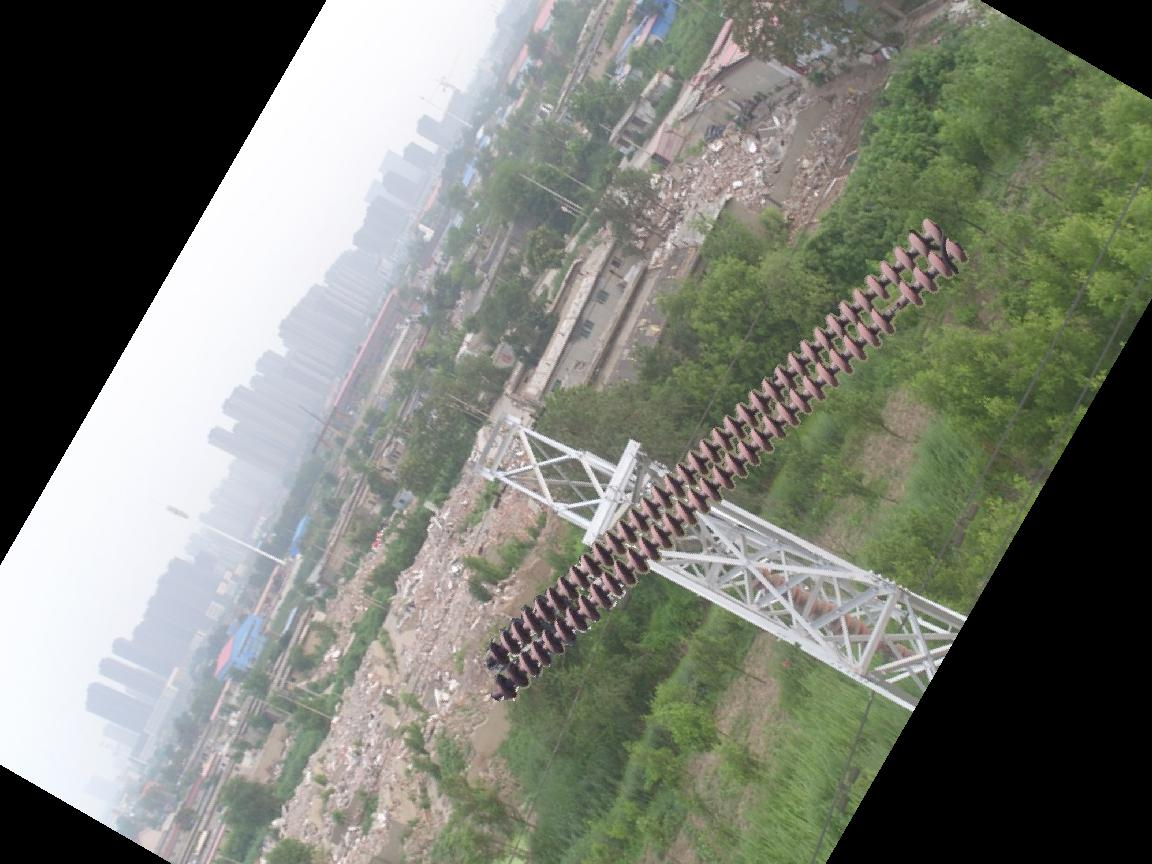insulator: (478, 209, 972, 703), (751, 566, 908, 663)
insulator_stringdrop: (869, 280, 923, 337)
